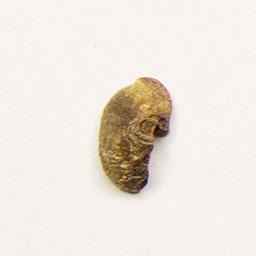defect: (91, 69, 178, 199)
